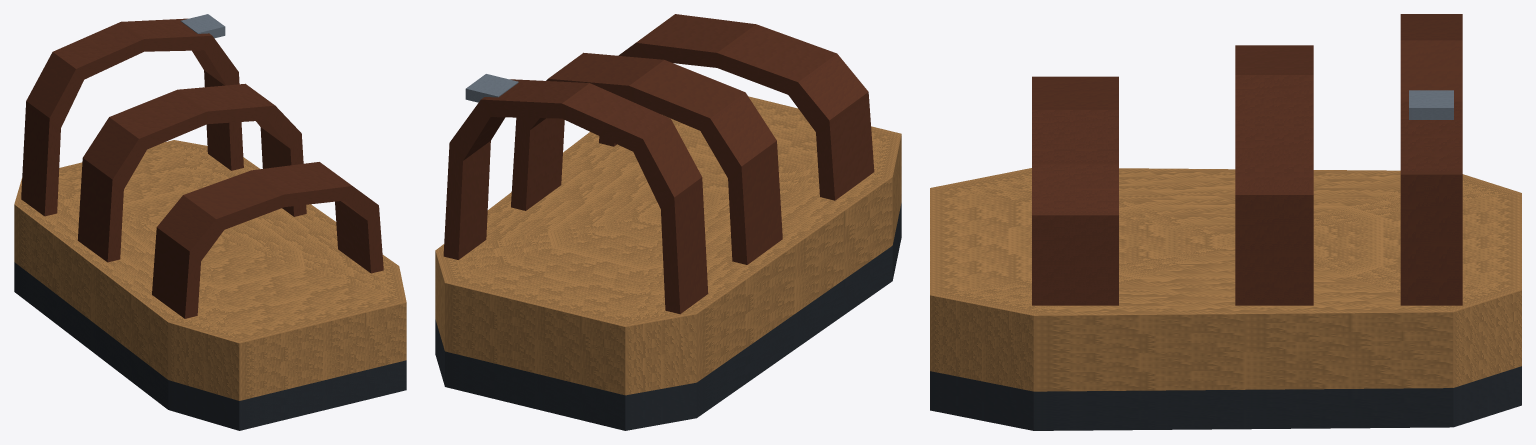
File: sandal.gltf
3 renders of one model, left to right at view 1: azimuth 30°, elevation 25°; view 2: azimuth 150°, elevation 25°; view 3: azimuth 270°, elevation 25°, orthographic. The views are drawn at different scales.
Parts seen in each view (by area): view 1: Trail Sandal; view 2: Trail Sandal; view 3: Trail Sandal.
Boxes of the visible parts, x1,y1,x2,y2 form: Trail Sandal: (14, 14, 406, 430); Trail Sandal: (435, 14, 901, 430); Trail Sandal: (930, 14, 1521, 430).
Bounding box in the file's own units: 0.21 × 0.209 × 0.354.
4 materials, 4 textured.
